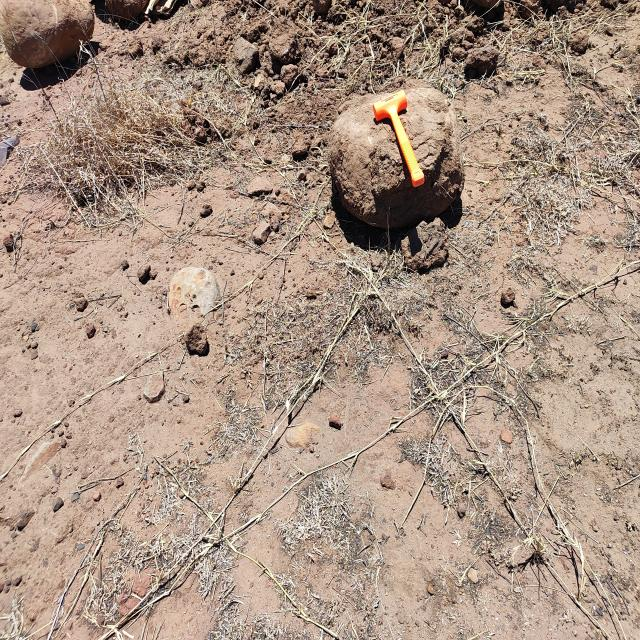Orange_hammer: (372, 89, 424, 188)
